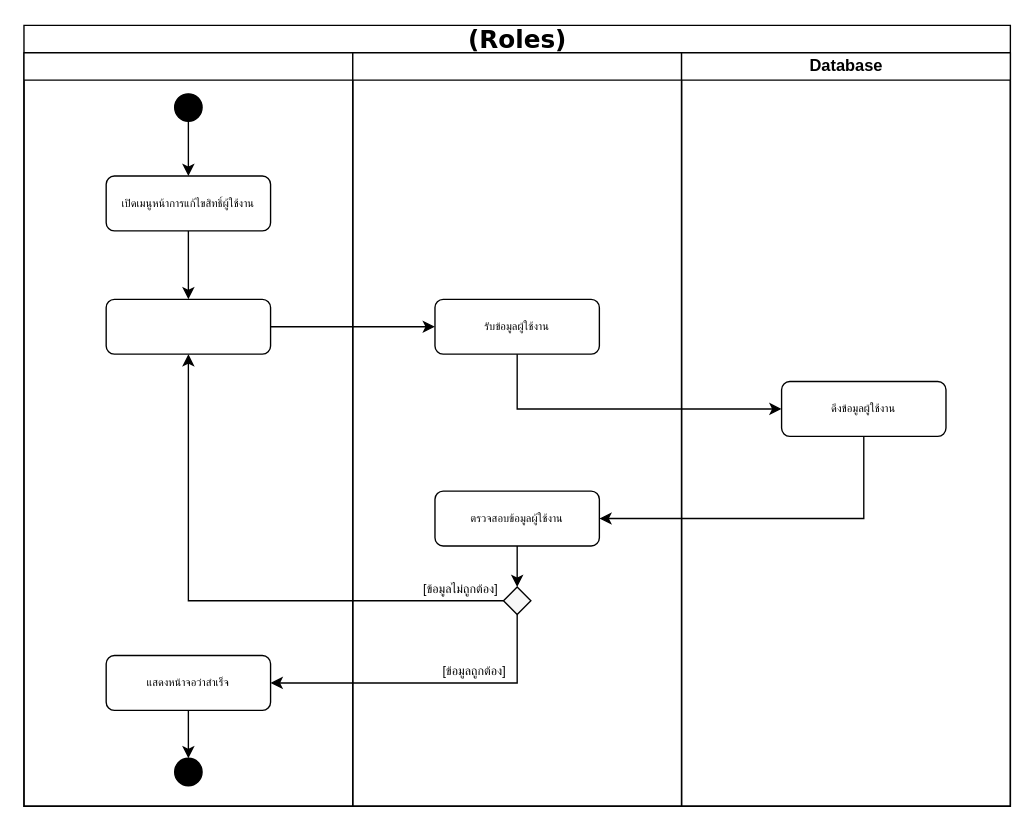
Image size: 1034x830. Some labels were removed from this diagram. Here are the shapes that lost their labels. From the top down, the box of each, then its label:
(105, 298, 271, 354): เพิ่ม ลบ แก้ไข สิทธิ์ผู้ช้งาน
(23, 51, 353, 806): Front-end
(351, 51, 682, 806): Back-end
